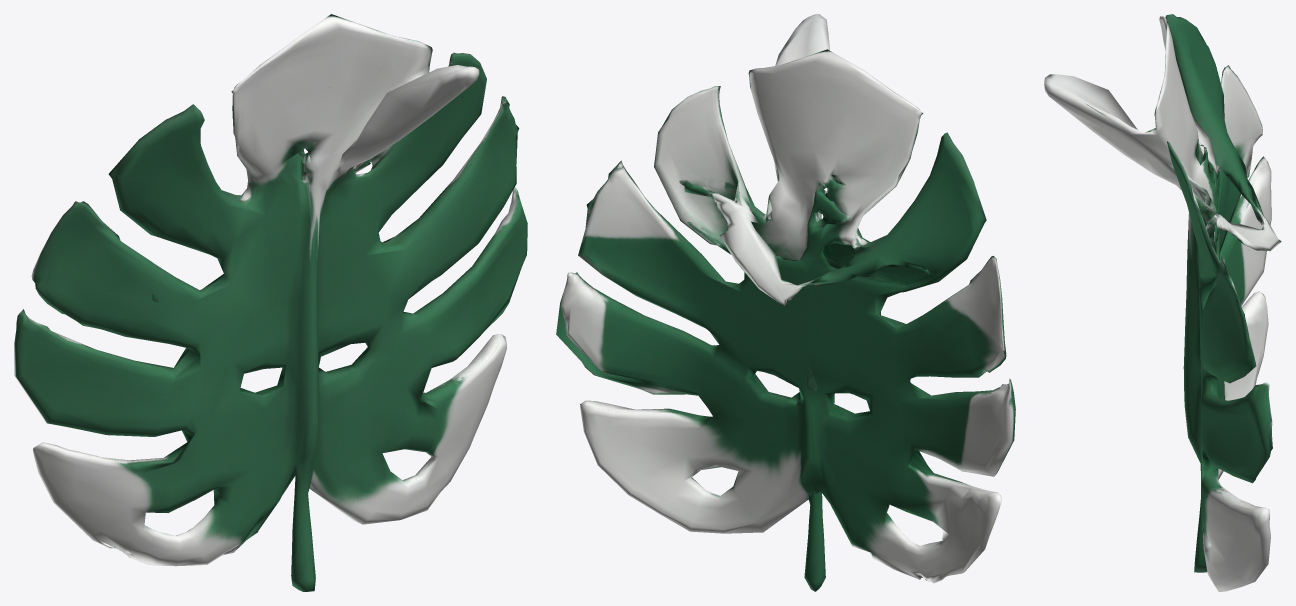
The model's file is mon_halfmoon_darkgreen_flatmulti.glb.
3 renders of one model, left to right at view 1: azimuth 30°, elevation 25°; view 2: azimuth 150°, elevation 25°; view 3: azimuth 270°, elevation 25°, orthographic. The views are drawn at different scales.
Bounding box in the file's own units: 1.83 × 2 × 0.7763.
1 material, 1 textured.
